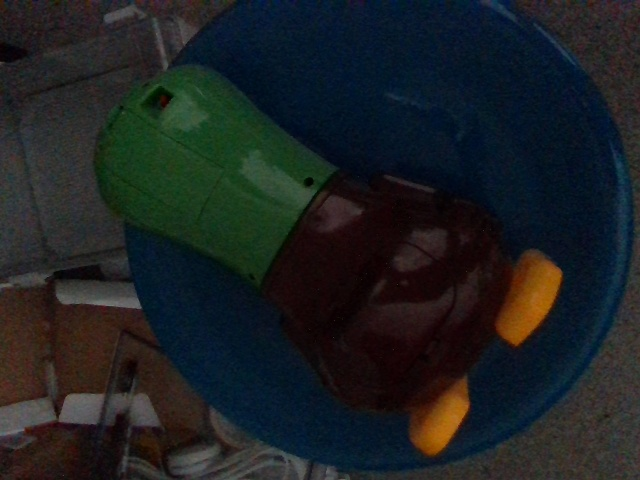screw hole: (305, 174, 315, 188)
toy: (93, 62, 564, 458)
